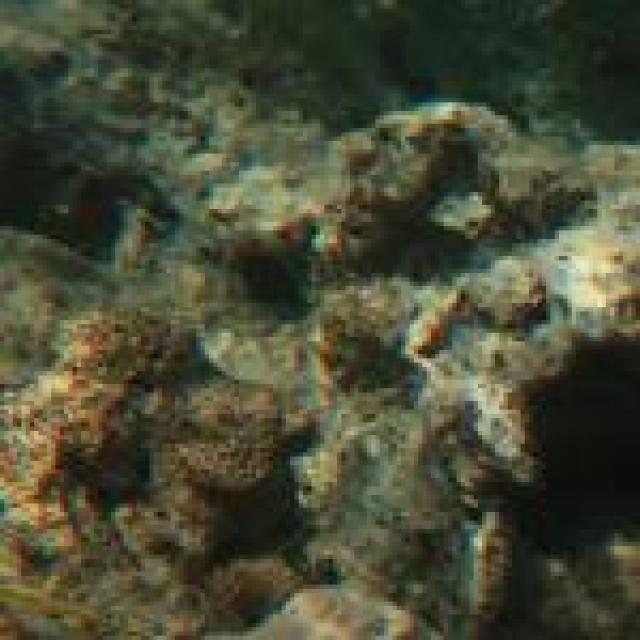Dead Coral: (23, 303, 325, 566), (233, 120, 572, 297)
